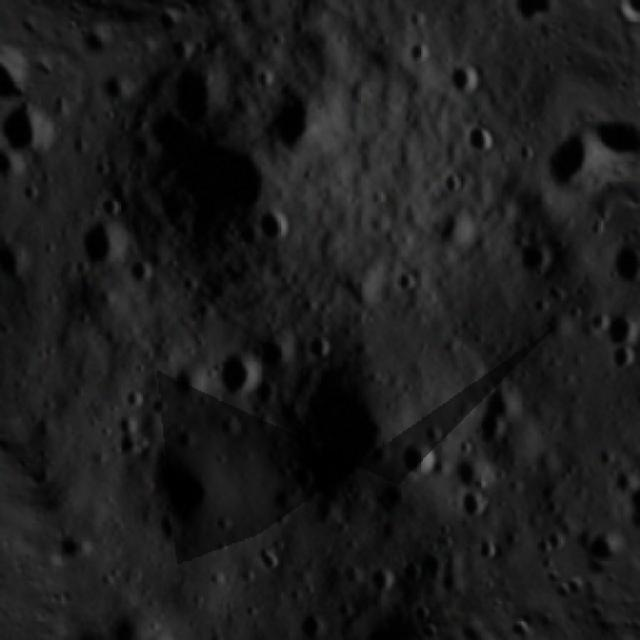crater: (245, 344, 426, 528), (148, 108, 288, 240), (136, 430, 235, 536), (251, 66, 338, 163), (453, 368, 533, 460), (527, 121, 608, 205), (153, 46, 230, 129), (0, 90, 68, 172), (67, 208, 139, 275), (200, 336, 265, 406), (238, 315, 304, 383), (388, 424, 448, 490), (244, 196, 302, 253), (437, 48, 489, 102), (160, 354, 211, 409), (592, 298, 640, 354), (0, 226, 40, 283), (612, 454, 640, 534), (603, 232, 640, 292), (459, 113, 506, 159), (450, 483, 496, 529), (360, 558, 400, 602), (118, 253, 160, 292), (468, 528, 508, 568), (130, 615, 192, 640), (291, 603, 332, 640), (0, 141, 22, 187), (506, 0, 540, 25), (635, 291, 640, 335)
